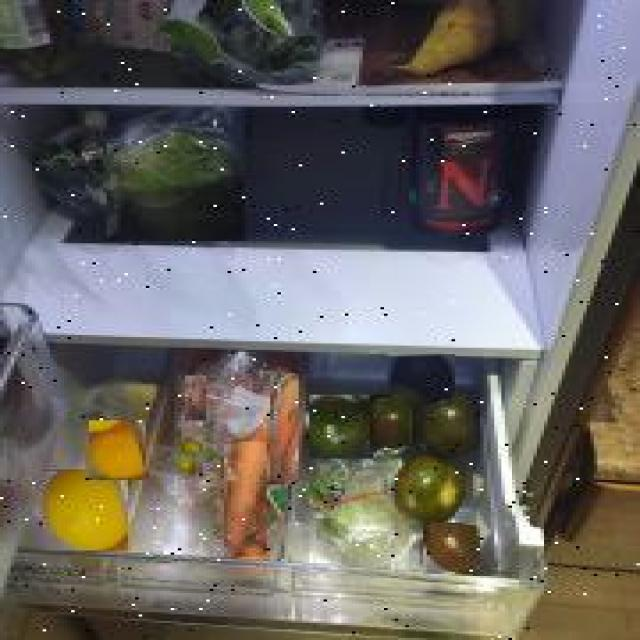bread: (71, 0, 170, 53)
carrot: (224, 443, 267, 558), (240, 366, 290, 460), (270, 374, 299, 484), (185, 376, 206, 420)
lemon: (44, 470, 130, 550), (89, 420, 146, 480)
pear: (393, 0, 499, 79)
salad: (107, 107, 245, 241), (308, 457, 410, 568)
tomato: (393, 455, 467, 526), (416, 387, 480, 456), (310, 396, 374, 460), (388, 354, 455, 403), (423, 523, 480, 574), (370, 396, 412, 451)
